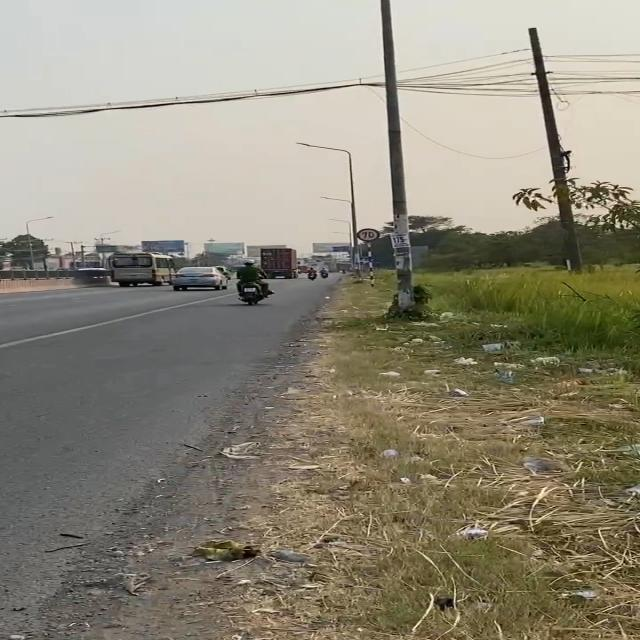127-toc-do-toi-da-70: (356, 228, 380, 242)
